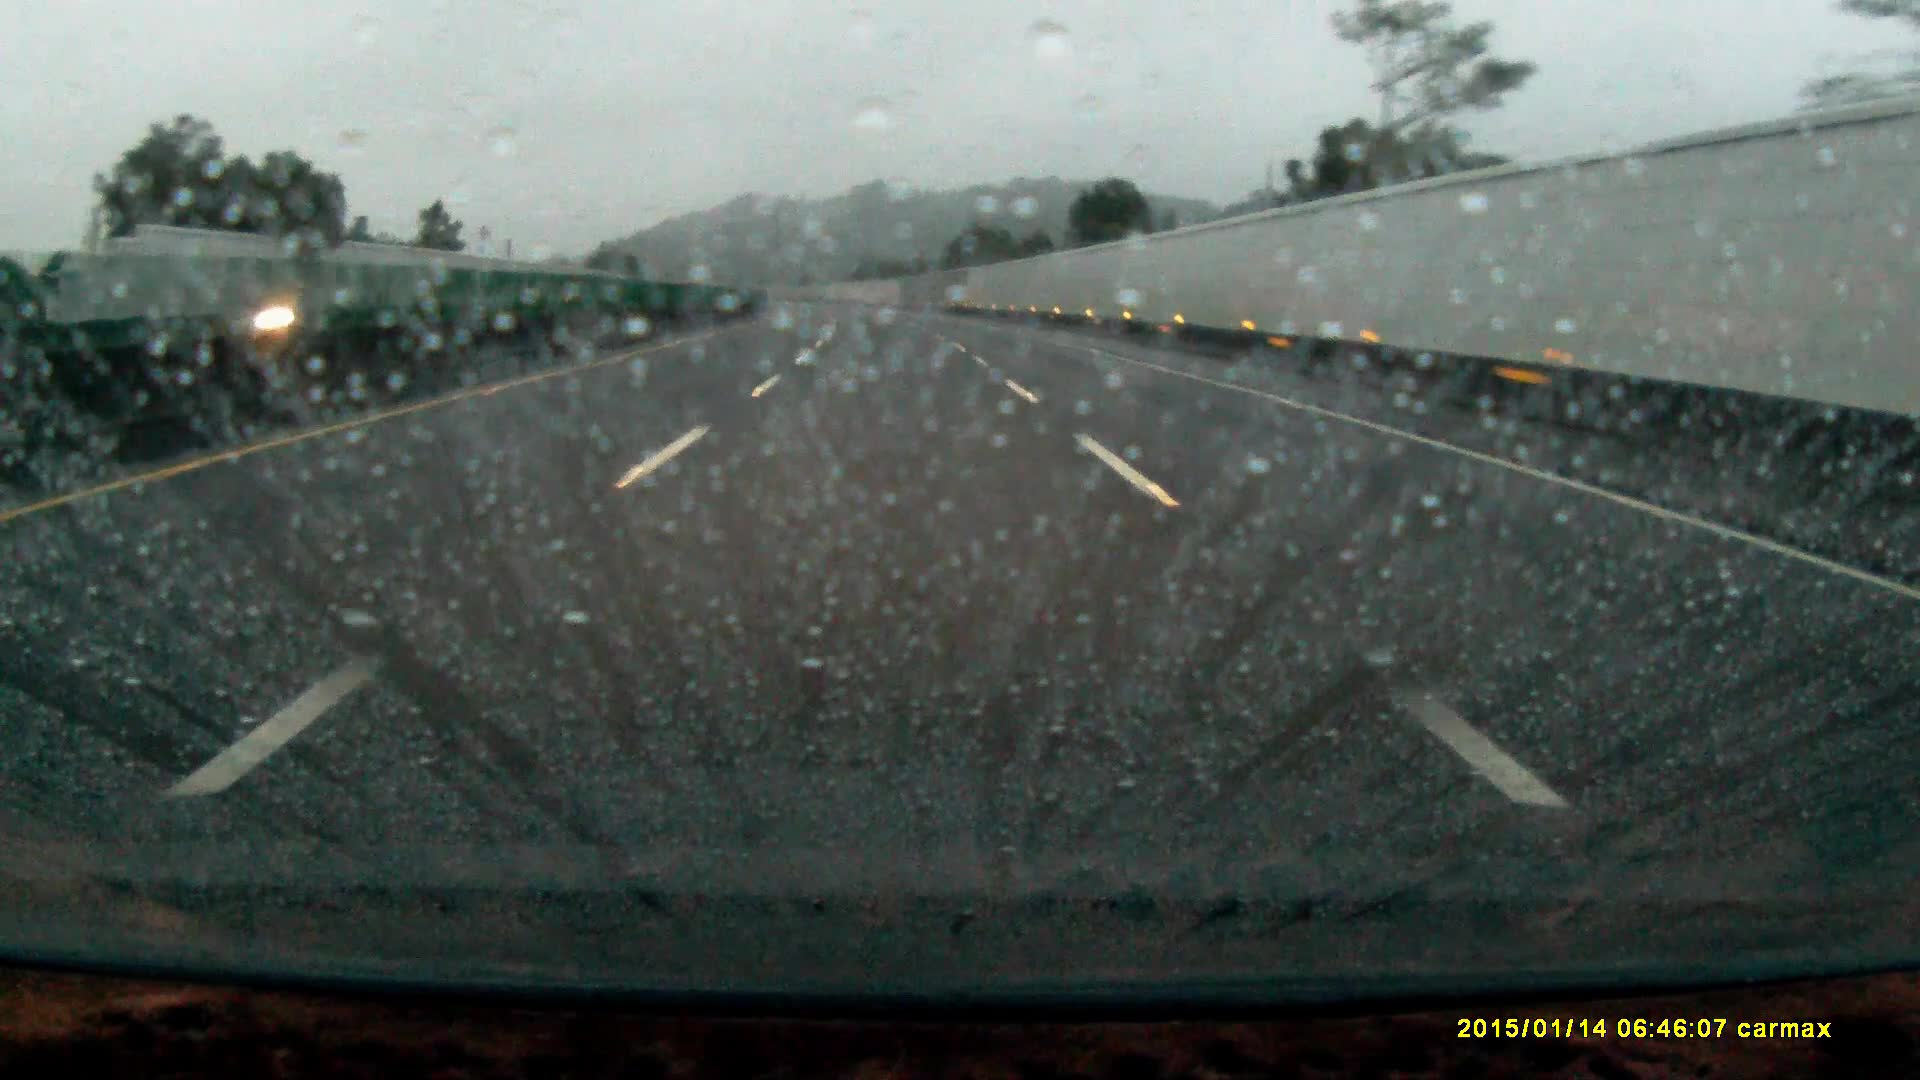vehicle: (208, 291, 339, 342)
